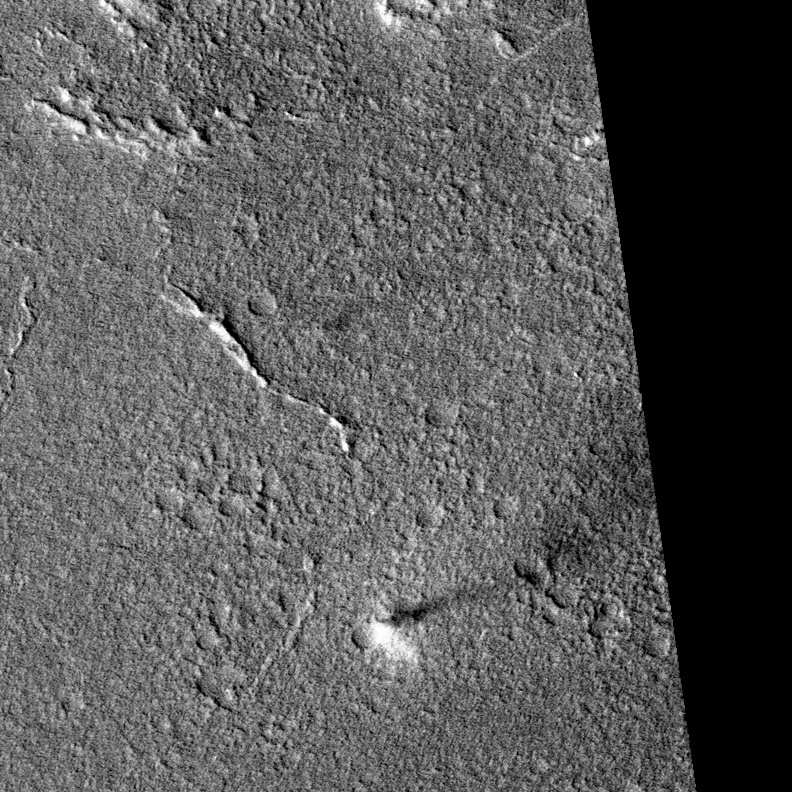dust_devil: (366, 590, 454, 671)
